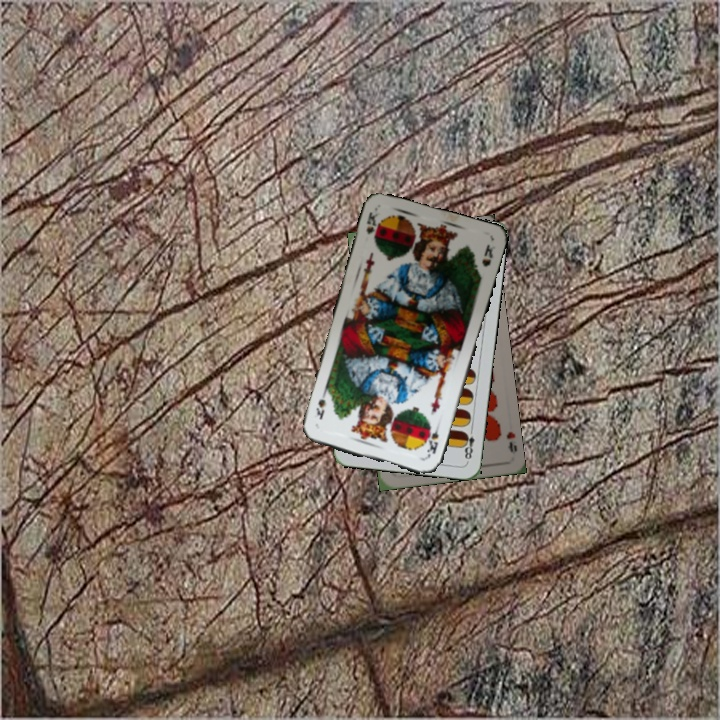E8: (459, 423, 477, 464)
H9: (503, 428, 519, 455)
SK: (423, 420, 443, 459), (362, 208, 381, 242)
